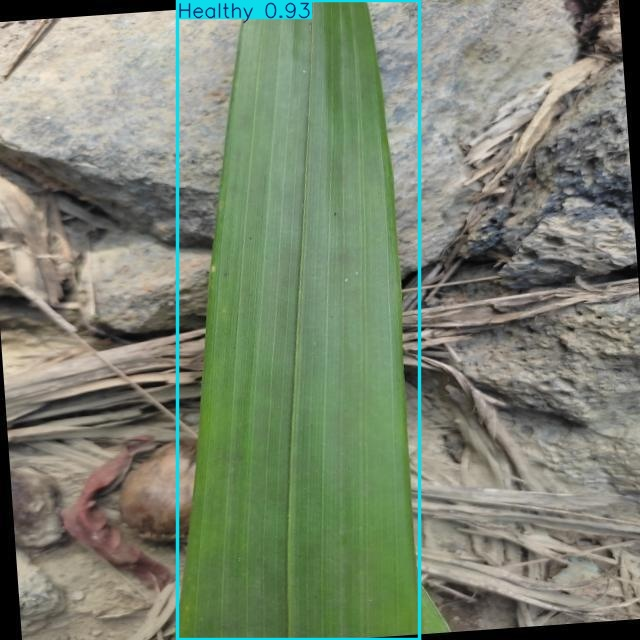Healthy: (177, 0, 419, 640)
